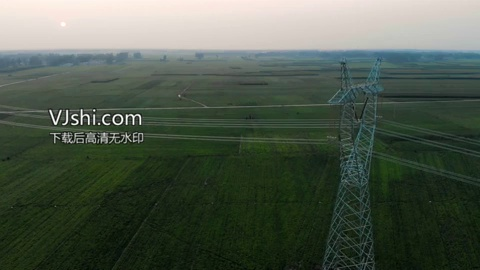tower_body: (322, 50, 387, 270)
tower_foot: (323, 220, 376, 270)
tower_head: (329, 55, 386, 185)
